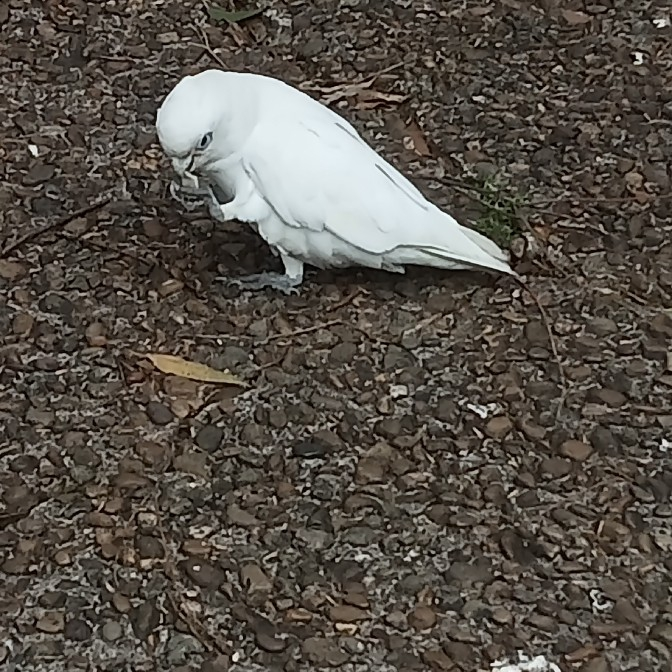Not_a_Chicken: (126, 54, 540, 325)
